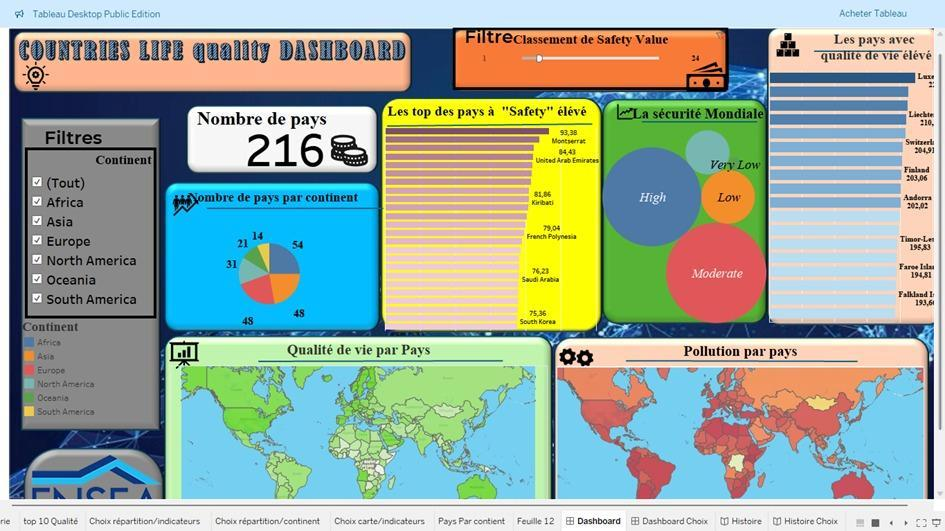

The dashboard page shown, as its layout file describes it:
{"tool":"tableau","page":{"name":"Dashboard_generale","canvas":[1000,1000],"units":"permille","ordinal":2},"visuals":[{"type":"image","param":"Image/arrière plan.png","box":[5.8,9.9,988.3,980.2]},{"type":"filter","title":"Safety","param":"[federated.0lenixm1y4b4i817nm0131hik9md].[rank:sum:Safety Value:qk]","box":[477.4,30.9,290.5,112.4]},{"type":"worksheet","title":"Safety","mark":"Bar","rows":["country"],"cols":["Safety Value"],"box":[405.8,161.7,254.7,411.1]},{"type":"worksheet","title":"Safety/categorie","mark":"Circle","box":[635,165.4,173,395.1]},{"type":"text","box":[205.8,169.1,186.9,48.1]},{"type":"worksheet","title":"Pays/Qualité vie (2)","mark":"Automatic","box":[251.1,192.6,94.2,108.6]},{"type":"filter","title":"Pays/Qualité vie","param":"[federated.0lenixm1y4b4i817nm0131hik9md].[none:Continent:nk]","box":[26.3,245.7,138.7,304.9]},{"type":"worksheet","title":"Pays Par contient","mark":"Pie","box":[167.9,316.1,232.1,264.2]},{"type":"legend","title":"Pays Par contient","param":"[federated.0lenixm1y4b4i817nm0131hik9md].[none:Continent:nk]","box":[23.4,551.9,143.1,193.8]},{"type":"worksheet","title":"Pays/Qualité vie","mark":"Multipolygon","box":[178.8,586.4,398.5,363]},{"type":"worksheet","title":"Pollution","mark":"Automatic","box":[586.9,588.9,387.6,365.4]},{"type":"legend","title":"Pays/Qualité vie","param":"[federated.0lenixm1y4b4i817nm0131hik9md].[sum:Quality of Life Value:qk]","box":[456.2,918.5,102.2,30.9]},{"type":"legend","title":"Pollution","param":"[federated.0lenixm1y4b4i817nm0131hik9md].[sum:Climate Value:qk]","box":[858.4,919.8,102.2,29.6]}]}

Visuals, with their boxes on the dashboard's canvas, which has no fixed pixel size, in thousandths of its width and height (x1, y1, x2, y2). These are canvas units, not pixel positions in the 945x531 screenshot, which may show the page scaled, cropped or inside an application window:
image: 6/10/994/990
"Safety" filter: 477/31/768/143
"Safety" worksheet (Bar marks): 406/162/660/573
"Safety/categorie" worksheet (Circle marks): 635/165/808/560
text: 206/169/393/217
"Pays/Qualité vie (2)" worksheet: 251/193/345/301
"Pays/Qualité vie" filter: 26/246/165/551
"Pays Par contient" worksheet (Pie marks): 168/316/400/580
"Pays Par contient" legend: 23/552/166/746
"Pays/Qualité vie" worksheet (Multipolygon marks): 179/586/577/949
"Pollution" worksheet: 587/589/974/954
"Pays/Qualité vie" legend: 456/918/558/949
"Pollution" legend: 858/920/961/949
